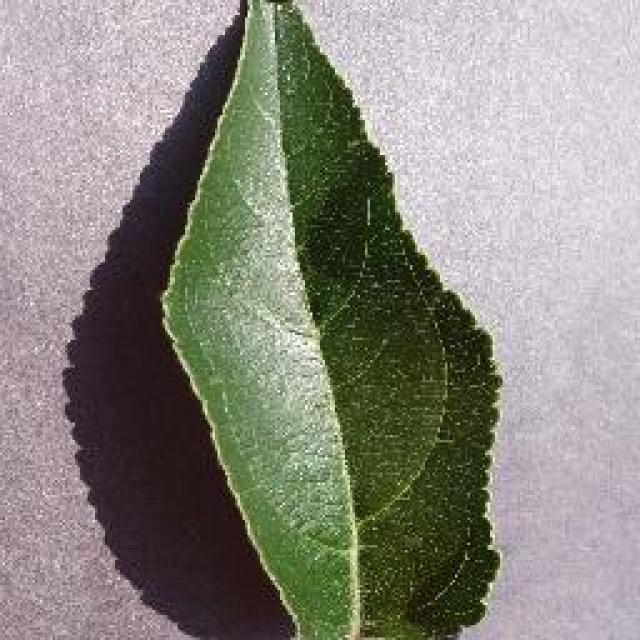apple healthy: (155, 0, 505, 638)
